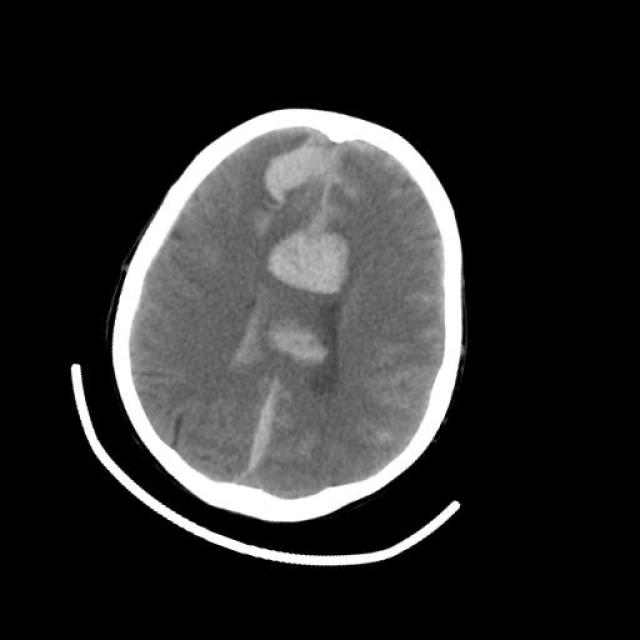Intraparenchymal: (236, 99, 373, 224), (254, 213, 375, 309), (247, 309, 341, 380)
Subarachnoid: (351, 304, 460, 467)
Subdural: (208, 375, 313, 514)
